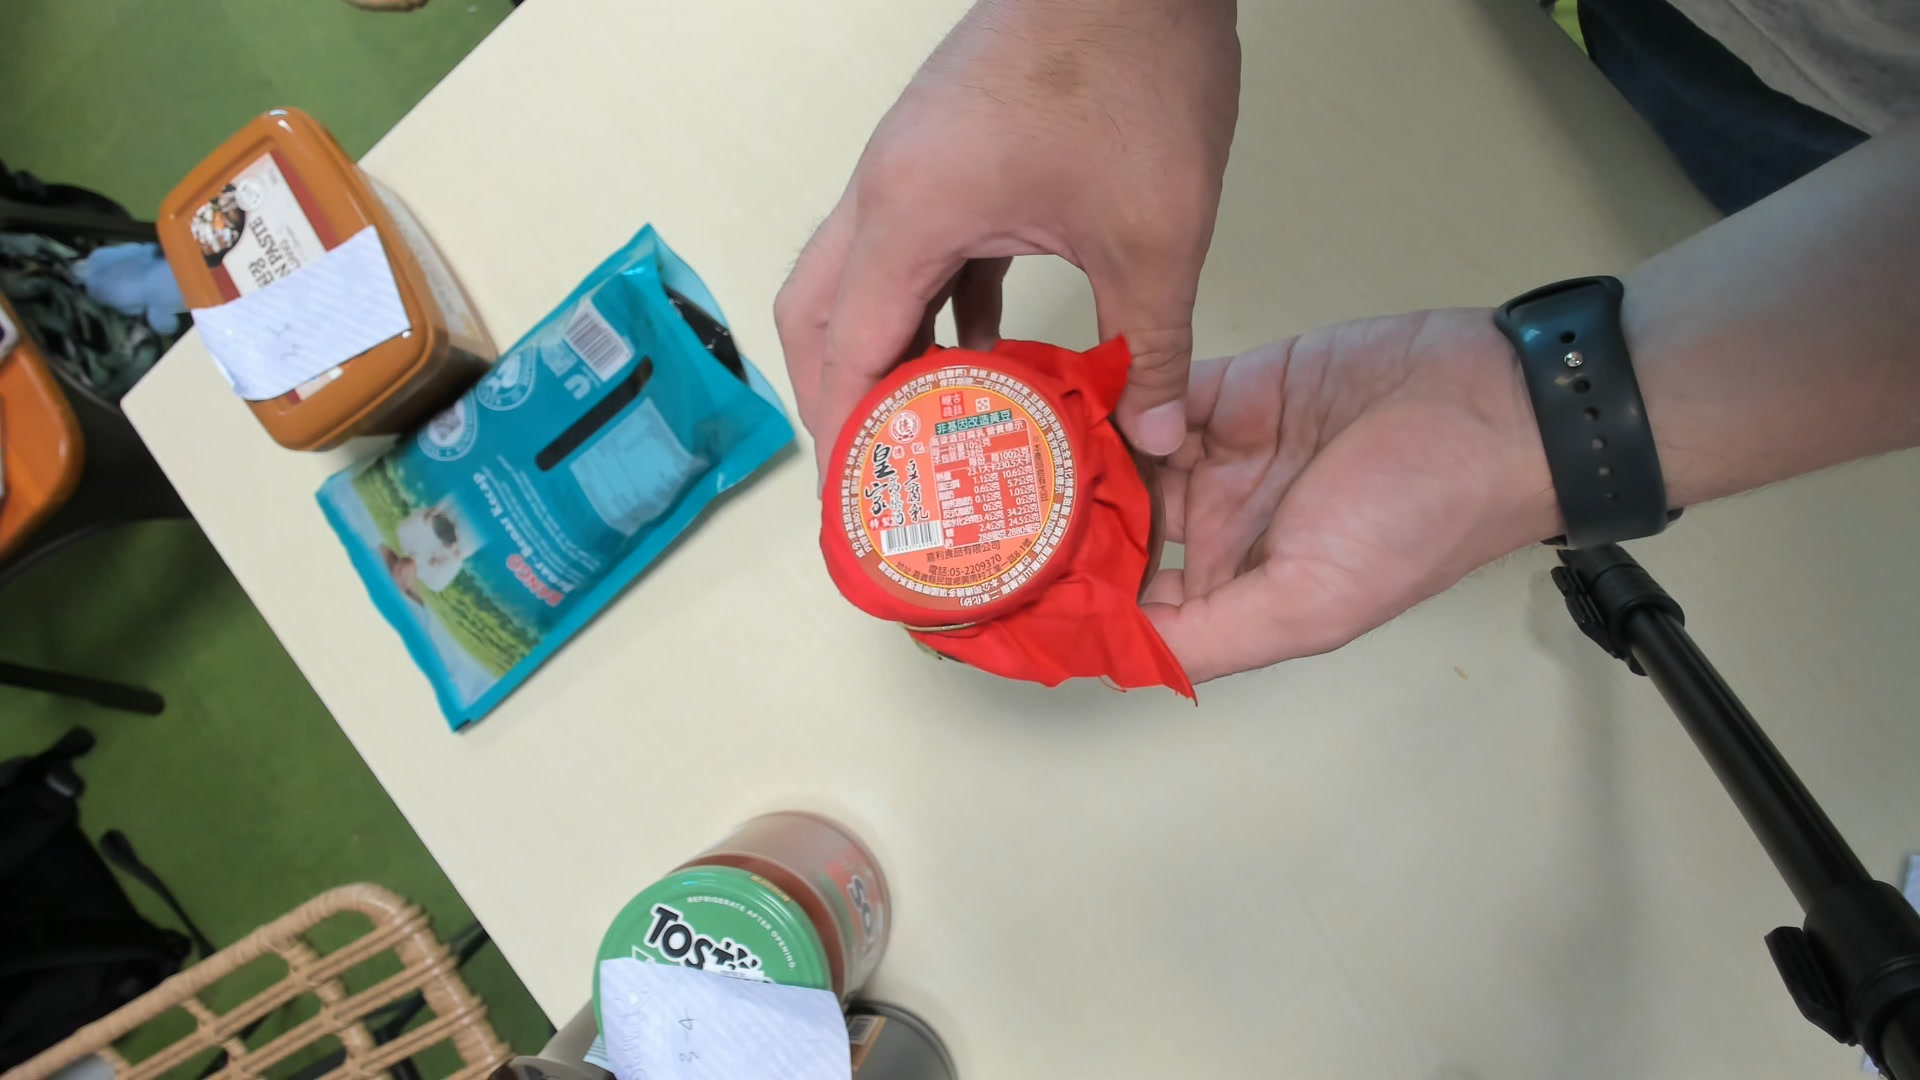OtherSauceDressing_300-399g_NonHalal_NonHealthy: (825, 349, 1183, 700)
